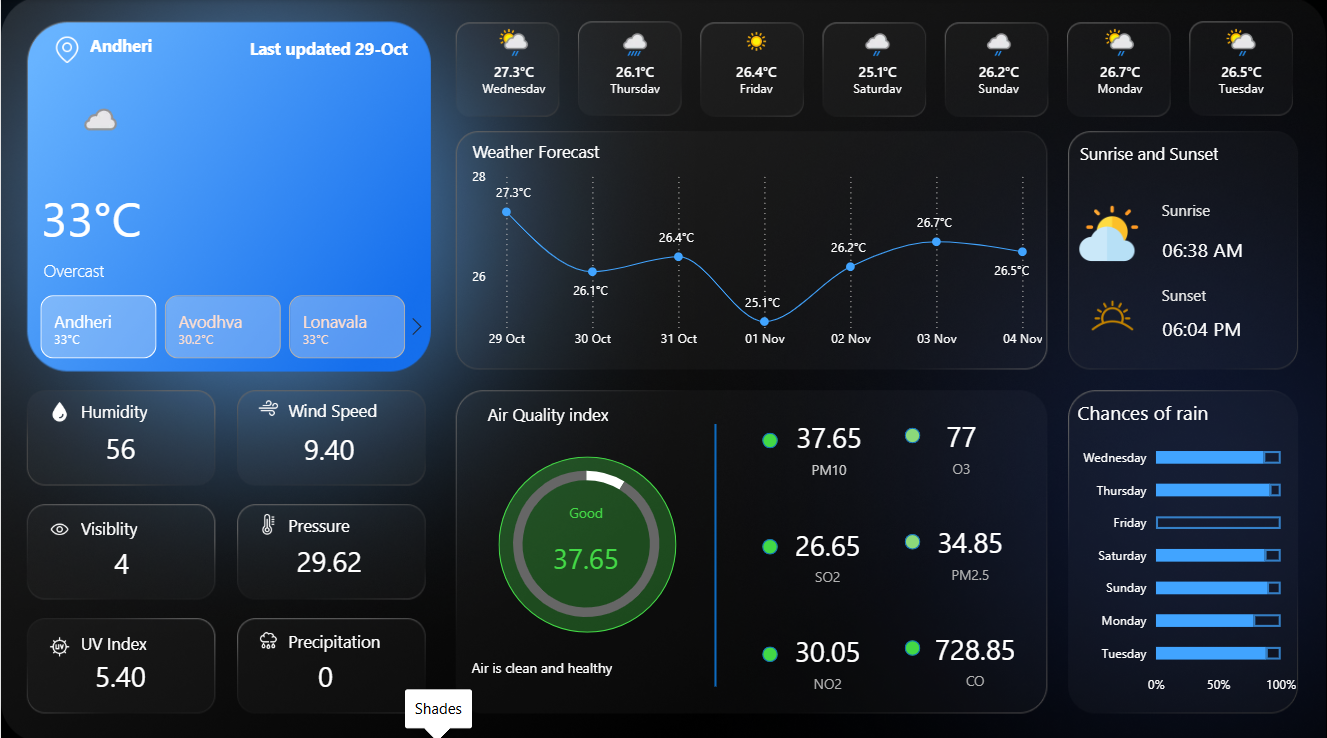

The page's visual inventory and layout, read from the dashboard file:
{"tool":"powerbi","page":{"name":"Shades","canvas":[1280,720],"ordinal":3},"visuals":[{"type":"shape","box":[480,441.7,171.7,170],"z":0},{"type":"donutChart","fields":{"Y":["Sum(Current data.current.air_quality.pm10)","_Measures.Left_pm10"]},"box":[471.7,431.7,186.7,188.3],"z":1000},{"type":"advancedSlicerVisual","fields":{"Values":["City.location.name"]},"box":[13.3,281.7,403.3,71.7],"z":2000},{"type":"shape","box":[33.3,173.3,163.3,71.7],"z":3000},{"type":"shape","box":[38.3,248.3,371.7,33.3],"z":4000},{"type":"shape","box":[83.3,31.7,103.3,36.7],"z":5000},{"type":"shape","box":[213.3,33.3,181.7,35],"z":6000},{"type":"image","box":[45,31.7,38.3,35],"z":7000},{"type":"cardVisual","fields":{"Data":["Min(Current data.current.condition.icon)"]},"box":[11.7,76.7,123.3,120],"z":8000},{"type":"image","box":[1035,193.3,68.3,66.7],"z":9000},{"type":"image","box":[33.3,383.3,45,30],"z":10000},{"type":"image","box":[235,605,45,30],"z":11000},{"type":"image","box":[1038.3,273.3,68.3,63.3],"z":12000},{"type":"image","box":[235,492.5,45,30],"z":13000},{"type":"image","box":[33.3,610,45,30],"z":14000},{"type":"image","box":[33.3,496.7,45,30],"z":15000},{"type":"image","box":[235,380,45,30],"z":16000},{"type":"shape","box":[75,385,123.3,28.3],"z":17000},{"type":"shape","box":[275,383.3,123.3,28.3],"z":18000},{"type":"shape","box":[75,496.7,123.3,28.3],"z":19000},{"type":"shape","box":[275,495,123.3,28.3],"z":20000},{"type":"shape","box":[75,608.3,123.3,28.3],"z":21000},{"type":"shape","box":[275,606.7,123.3,28.3],"z":22000},{"type":"cardVisual","fields":{"Data":["Sum(Current data.current.humidity)"]},"box":[33.3,383.3,163.3,90],"z":23000},{"type":"cardVisual","fields":{"Data":["Sum(Current data.current.wind_kph)"]},"box":[235,385,163.3,90],"z":24000},{"type":"cardVisual","fields":{"Data":["Sum(Current data.current.vis_km)"]},"box":[35,495,163.3,90],"z":25000},{"type":"cardVisual","fields":{"Data":["Sum(Current data.current.pressure_in)"]},"box":[235,493.3,163.3,90],"z":26000},{"type":"cardVisual","fields":{"Data":["Sum(Current data.current.uv)"]},"box":[33.3,605,163.3,90],"z":27000},{"type":"cardVisual","fields":{"Data":["Sum(Current data.current.precip_in)"]},"box":[231.7,605,163.3,90],"z":28000},{"type":"advancedSlicerVisual","fields":{"Values":["Forcast Day.Day_Forcast"]},"box":[435,18.3,823.3,91.7],"z":29000},{"type":"lineChart","title":"Weather Forecast","fields":{"Y":["Sum(Forcast Day.forecast.forecastday.day.avgtemp_c)"],"Category":["Forcast Day.forecast.forecastday.date.Variation.Date Hierarchy.Day"]},"box":[450,136.7,560,210],"z":30000},{"type":"shape","box":[1118.3,226.7,140,33.3],"z":31000},{"type":"shape","box":[1118.3,303.3,140,33],"z":32000},{"type":"shape","box":[1038.3,135,191.7,35],"z":33000},{"type":"shape","box":[1118.3,273.3,140,25],"z":34000},{"type":"shape","box":[1118.3,191.7,140,25],"z":35000},{"type":"hundredPercentStackedBarChart","title":"Chances of rain","fields":{"Y":["Sum(Forcast Day.forecast.forecastday.day.daily_chance_of_rain)","_Measures.Left_Chances_Rain"],"Category":["Forcast Day.Day_Forcast"]},"box":[1034.3,386.4,221.4,294.3],"z":36000},{"type":"card","fields":{"Values":["Sum(Current data.current.air_quality.o3)"]},"box":[875,391.7,105,80],"z":37000},{"type":"card","fields":{"Values":["Sum(Current data.current.air_quality.pm10)"]},"box":[746.7,393.3,105,80],"z":38000},{"type":"card","fields":{"Values":["Sum(Current data.current.air_quality.so2)"]},"box":[745,497.5,105,80],"z":39000},{"type":"card","fields":{"Values":["Sum(Current data.current.air_quality.pm2_5)"]},"box":[883.3,495,105,80],"z":40000},{"type":"card","fields":{"Values":["Sum(Current data.current.air_quality.co)"]},"box":[888.3,596.7,105,80],"z":41000},{"type":"card","fields":{"Values":["Sum(Current data.current.air_quality.no2)"]},"box":[745,600,105,80],"z":42000},{"type":"shape","box":[735,418.3,15,15],"z":43000},{"type":"shape","box":[735,521.7,15,15],"z":44000},{"type":"shape","box":[735,625,15,15],"z":45000},{"type":"shape","box":[871.7,413.3,15,15],"z":46000},{"type":"shape","box":[871.7,516.4,15,15],"z":47000},{"type":"shape","box":[871.7,619.4,15,15],"z":48000},{"type":"shape","box":[670,410,40,253.3],"z":49000},{"type":"shape","box":[466.7,386.7,191.7,35],"z":50000},{"type":"card","fields":{"Values":["Sum(Current data.current.air_quality.pm10)"]},"box":[516.7,486.7,96.7,91.7],"z":51000},{"type":"shape","box":[450,631.7,240,55],"z":52000}]}

Visuals, with their boxes in screenshot pixels (x1, y1, x2, y2), scaled from the page's 1280x720 canvas onto the 1327x738 screenshot:
shape: (498, 453, 676, 627)
donutChart - Sum(Current data.current.air_quality.pm10) x _Measures.Left_pm10: (489, 442, 683, 636)
advancedSlicerVisual - City.location.name: (14, 289, 432, 362)
shape: (35, 178, 204, 251)
shape: (40, 255, 425, 289)
shape: (86, 32, 193, 70)
shape: (221, 34, 410, 70)
image: (47, 32, 86, 68)
cardVisual - Min(Current data.current.condition.icon): (12, 79, 140, 202)
image: (1073, 198, 1144, 266)
image: (35, 393, 81, 424)
image: (244, 620, 290, 651)
image: (1076, 280, 1147, 345)
image: (244, 505, 290, 536)
image: (35, 625, 81, 656)
image: (35, 509, 81, 540)
image: (244, 389, 290, 420)
shape: (78, 395, 206, 424)
shape: (285, 393, 413, 422)
shape: (78, 509, 206, 538)
shape: (285, 507, 413, 536)
shape: (78, 624, 206, 653)
shape: (285, 622, 413, 651)
cardVisual - Sum(Current data.current.humidity): (35, 393, 204, 485)
cardVisual - Sum(Current data.current.wind_kph): (244, 395, 413, 487)
cardVisual - Sum(Current data.current.vis_km): (36, 507, 206, 600)
cardVisual - Sum(Current data.current.pressure_in): (244, 506, 413, 598)
cardVisual - Sum(Current data.current.uv): (35, 620, 204, 712)
cardVisual - Sum(Current data.current.precip_in): (240, 620, 410, 712)
advancedSlicerVisual - Forcast Day.Day_Forcast: (451, 19, 1305, 113)
"Weather Forecast" lineChart: (467, 140, 1047, 355)
shape: (1159, 232, 1305, 266)
shape: (1159, 311, 1305, 345)
shape: (1076, 138, 1275, 174)
shape: (1159, 280, 1305, 306)
shape: (1159, 196, 1305, 222)
"Chances of rain" hundredPercentStackedBarChart: (1072, 396, 1302, 698)
card - Sum(Current data.current.air_quality.o3): (907, 401, 1016, 483)
card - Sum(Current data.current.air_quality.pm10): (774, 403, 883, 485)
card - Sum(Current data.current.air_quality.so2): (772, 510, 881, 592)
card - Sum(Current data.current.air_quality.pm2_5): (916, 507, 1025, 589)
card - Sum(Current data.current.air_quality.co): (921, 612, 1030, 694)
card - Sum(Current data.current.air_quality.no2): (772, 615, 881, 697)
shape: (762, 429, 778, 444)
shape: (762, 535, 778, 550)
shape: (762, 641, 778, 656)
shape: (904, 424, 919, 439)
shape: (904, 529, 919, 545)
shape: (904, 635, 919, 650)
shape: (695, 420, 736, 680)
shape: (484, 396, 683, 432)
card - Sum(Current data.current.air_quality.pm10): (536, 499, 636, 593)
shape: (467, 647, 715, 704)
